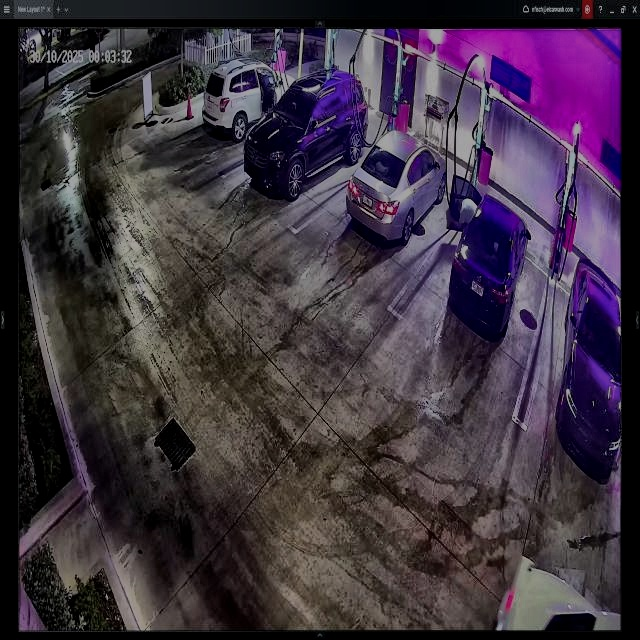Car: (244, 72, 366, 198), (447, 175, 531, 335), (347, 128, 446, 245)
